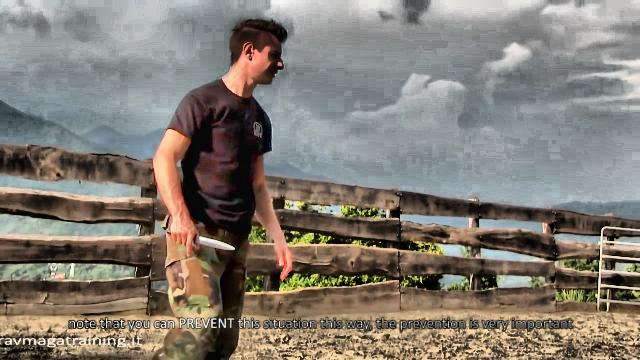knife: (161, 218, 243, 256)
